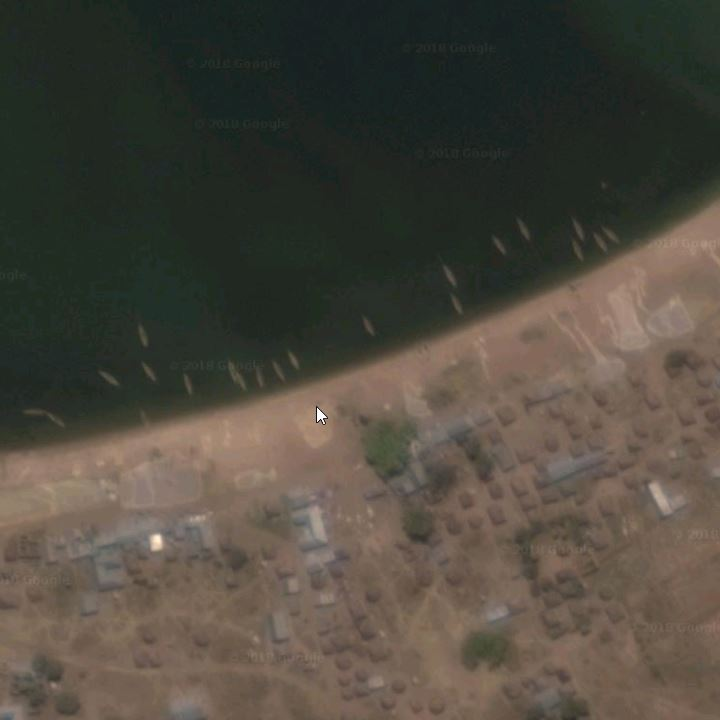boat: (132, 316, 154, 355), (439, 259, 461, 293), (515, 212, 534, 249), (94, 368, 124, 391), (567, 211, 587, 244), (357, 310, 379, 340), (488, 231, 509, 262), (283, 347, 305, 375), (267, 356, 289, 384), (178, 370, 197, 402), (447, 290, 467, 319), (588, 231, 610, 257), (43, 409, 69, 431), (567, 238, 587, 266), (136, 400, 153, 432), (18, 405, 50, 422), (605, 222, 625, 247), (140, 357, 157, 385), (234, 368, 248, 398), (225, 359, 238, 390), (253, 362, 265, 391)
